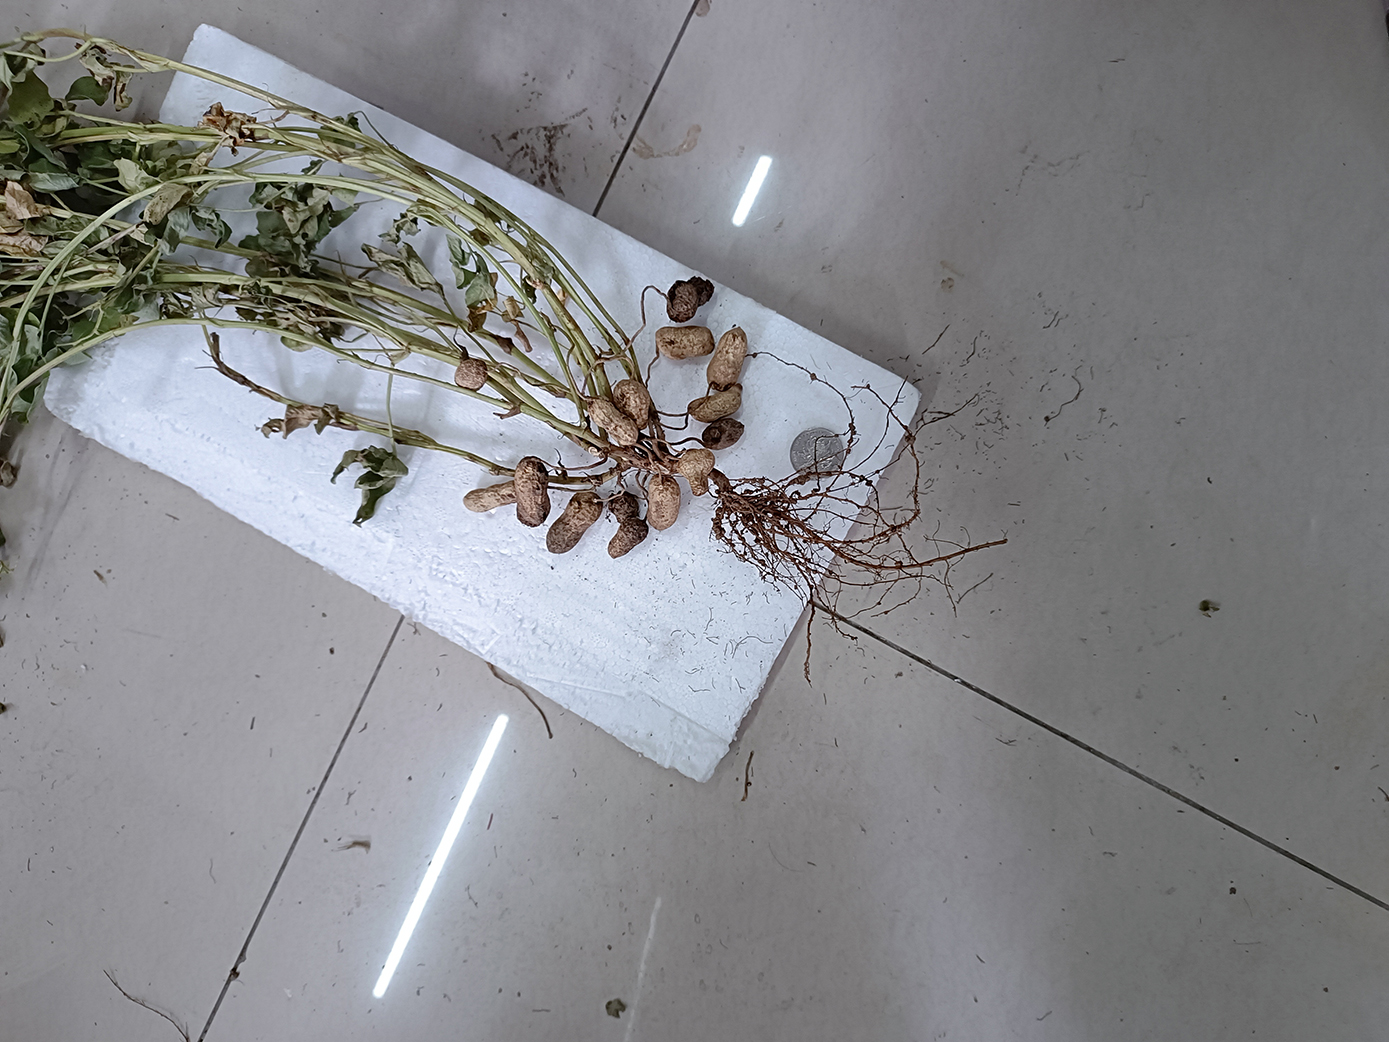h: (706, 327, 746, 391), (587, 397, 636, 448), (686, 385, 742, 422), (655, 327, 714, 361), (648, 474, 680, 534), (615, 379, 649, 430), (679, 448, 714, 496), (464, 484, 516, 514), (454, 359, 488, 391)
l: (548, 494, 602, 553), (514, 458, 551, 526), (665, 275, 715, 323), (606, 522, 649, 558), (702, 420, 745, 452), (606, 493, 637, 518)
